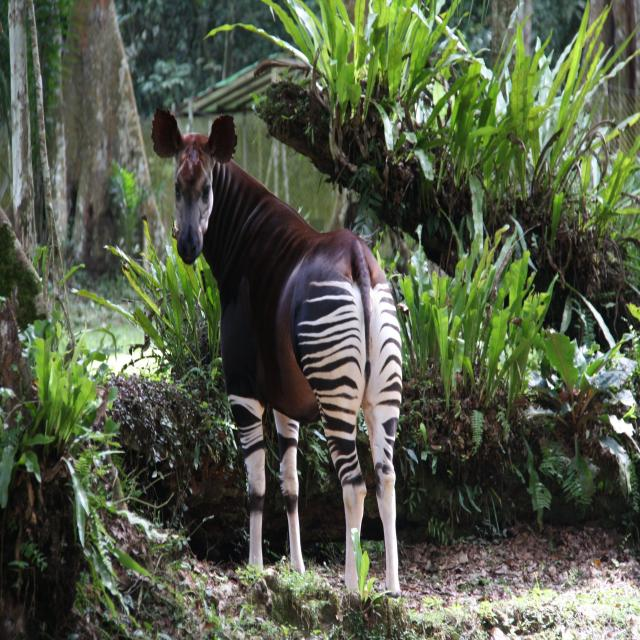Okapi: (152, 106, 403, 598)
